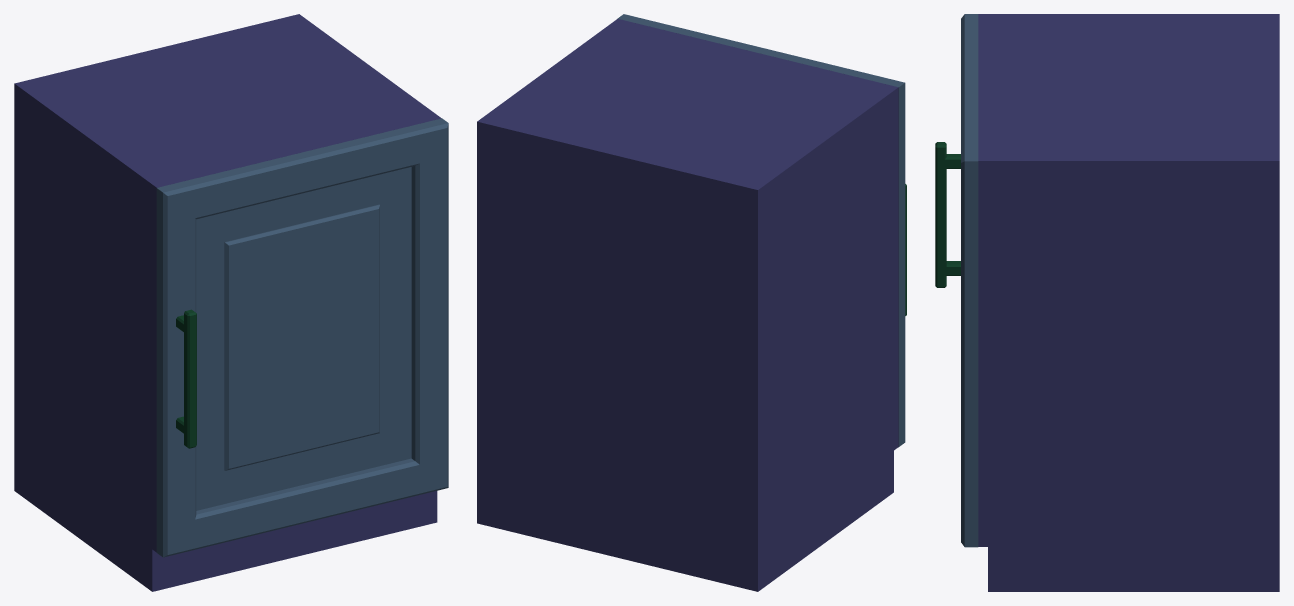
File: Kitchen_Furniture_Counter.fbx
3 views of the same model, side by side, from view 1: azimuth 30°, elevation 25°; view 2: azimuth 150°, elevation 25°; view 3: azimuth 270°, elevation 25° (orthographic). The views are drawn at different scales.
Parts seen in each view (by area): view 1: Counter_DoorandHandle, Body1; view 2: Body1, Counter_DoorandHandle; view 3: Body1, Counter_DoorandHandle.
Boxes of the visible parts, x1,y1,x2,y2 form: Counter_DoorandHandle: (156,118,448,557); Body1: (14,14,441,591); Body1: (477,19,898,591); Counter_DoorandHandle: (617,14,906,446); Body1: (978,14,1279,591); Counter_DoorandHandle: (935,14,978,547).
Size of the model in its own units: 60.12 by 82 by 59.45.
